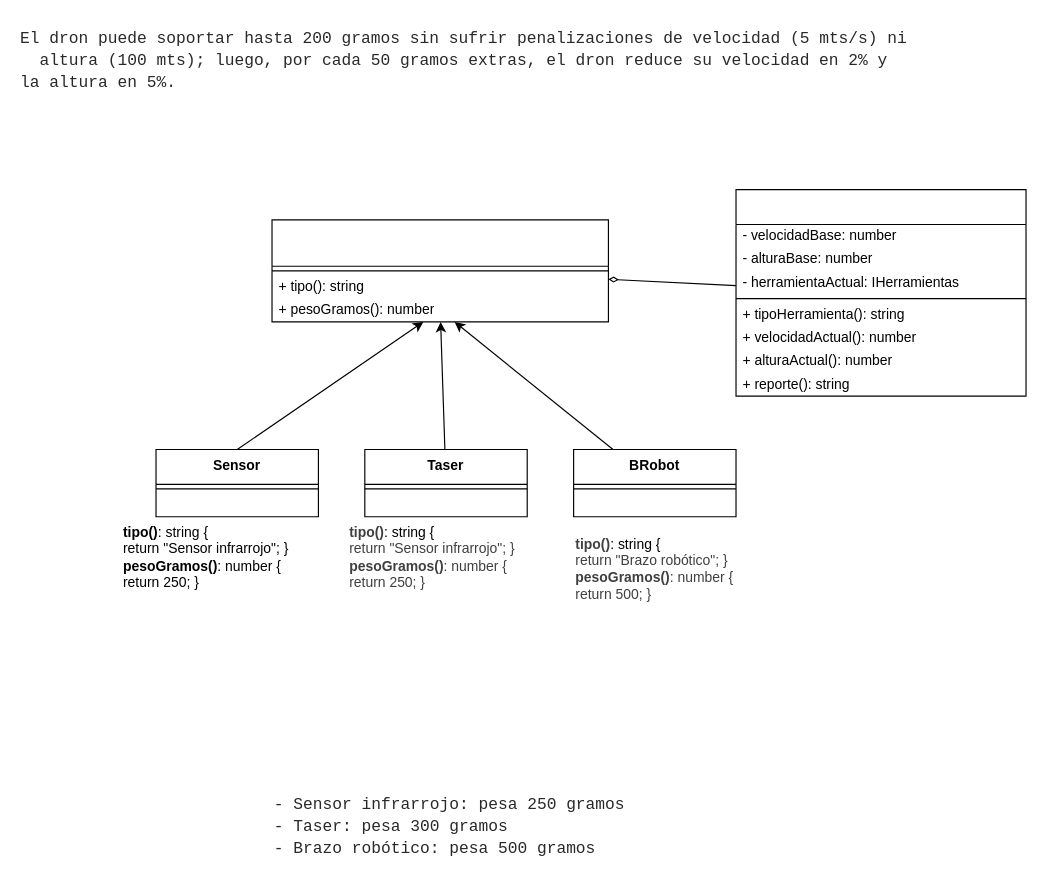
This 1046x886 diagram has some shape labels left out. Each missing label, with the box of its shape:
<<interfaz>> IHerramientas: (271, 219, 608, 322)
Dron: (735, 188, 1026, 396)
